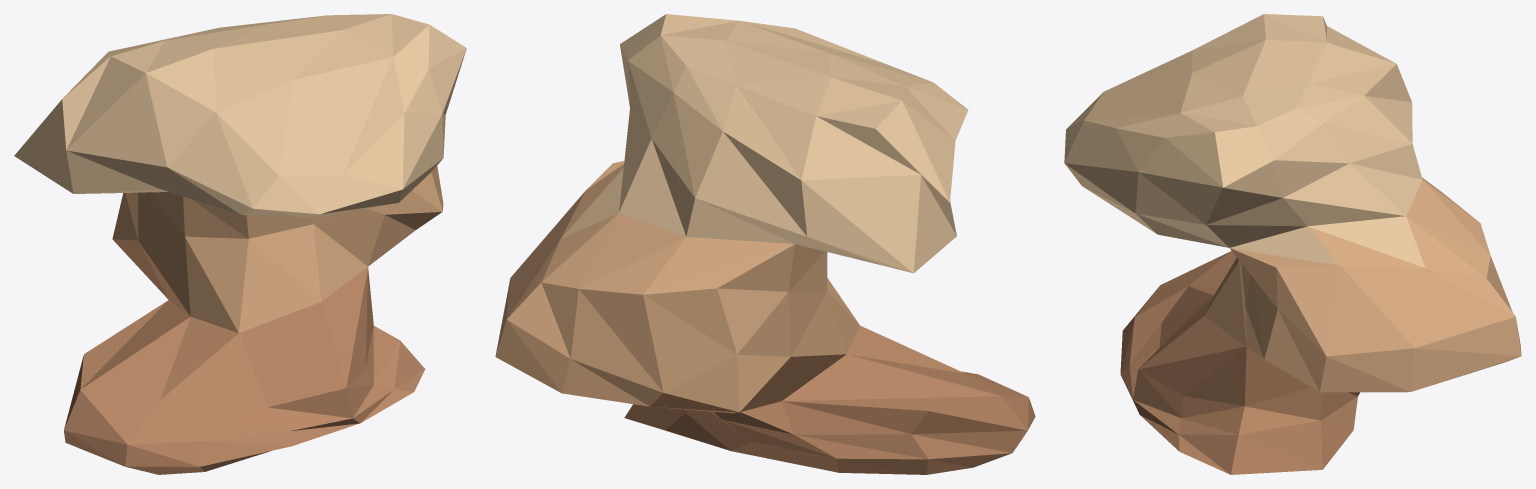
Rendered from canyon-5-4.glb.
3 renders of one model, left to right at view 1: azimuth 30°, elevation 25°; view 2: azimuth 150°, elevation 25°; view 3: azimuth 270°, elevation 25°, orthographic. The views are drawn at different scales.
Parts seen in each view (by area): view 1: canyon-5-4; view 2: canyon-5-4; view 3: canyon-5-4.
Boxes of the visible parts, bbox=[...] form: canyon-5-4: bbox=[14, 14, 466, 474]; canyon-5-4: bbox=[495, 14, 1035, 474]; canyon-5-4: bbox=[1064, 14, 1521, 474].
Size of the model in its own units: 28.89 by 24 by 27.48.
